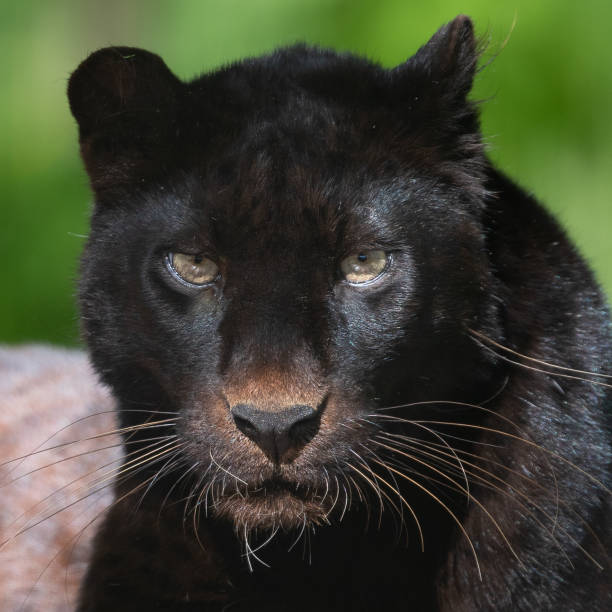panther: (41, 11, 576, 578)
